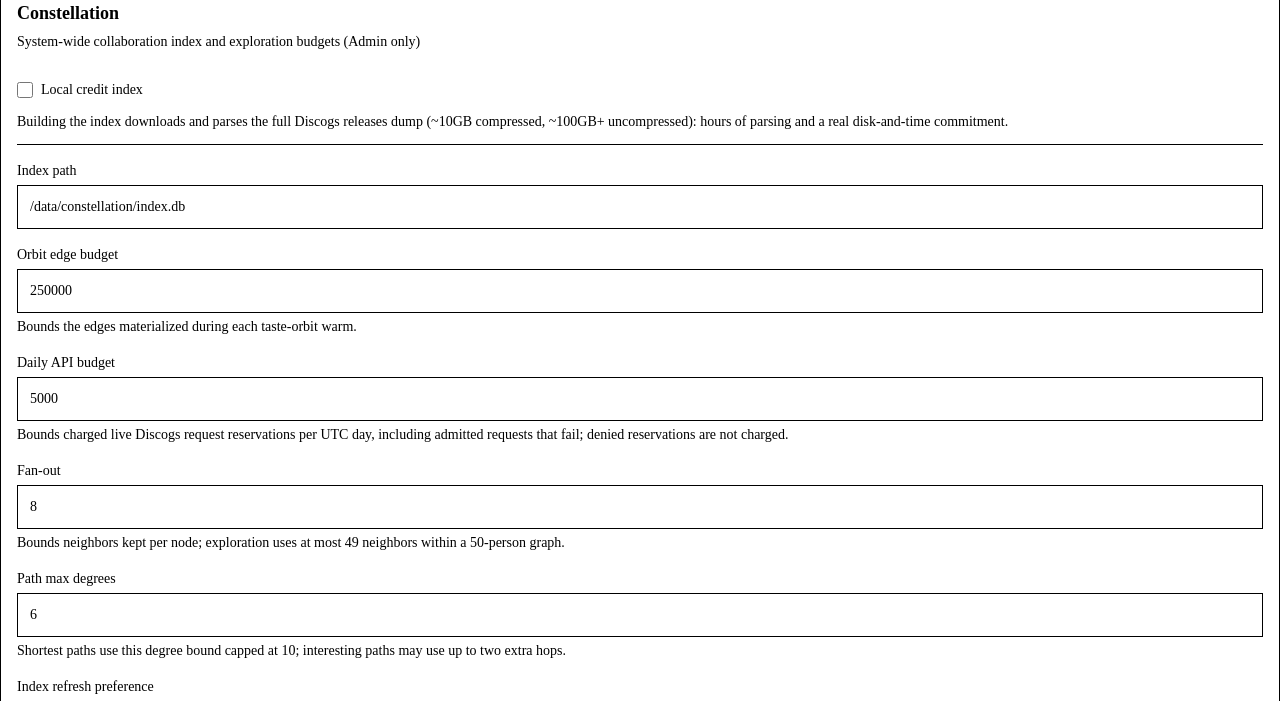
Constellation settings › preserves server validation errors and drafts with no automatic write retries
This screenshot has width=1280, height=701.
Replace the text in the number field labelled "Daily API budget" with "2" at (640, 399), box [17,377,1263,421]
(page scrolled)
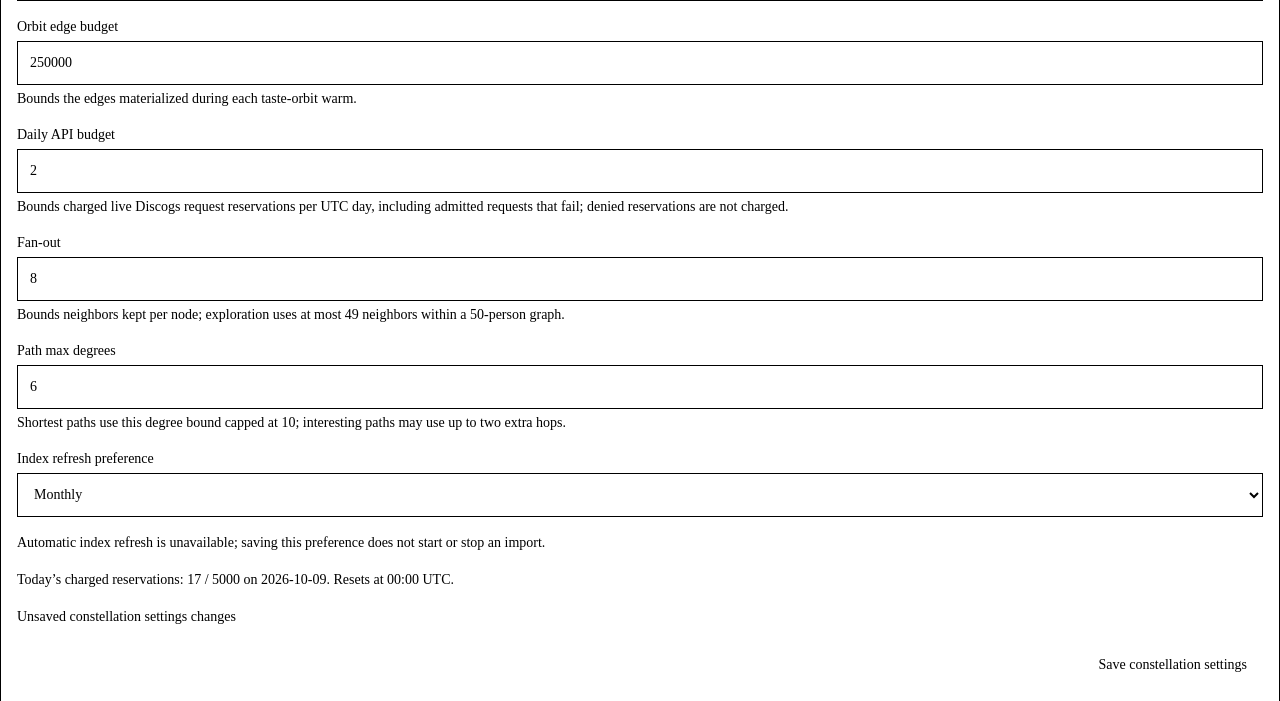
Click the button "Save constellation settings" at (1173, 665), box [1082,643,1263,687]
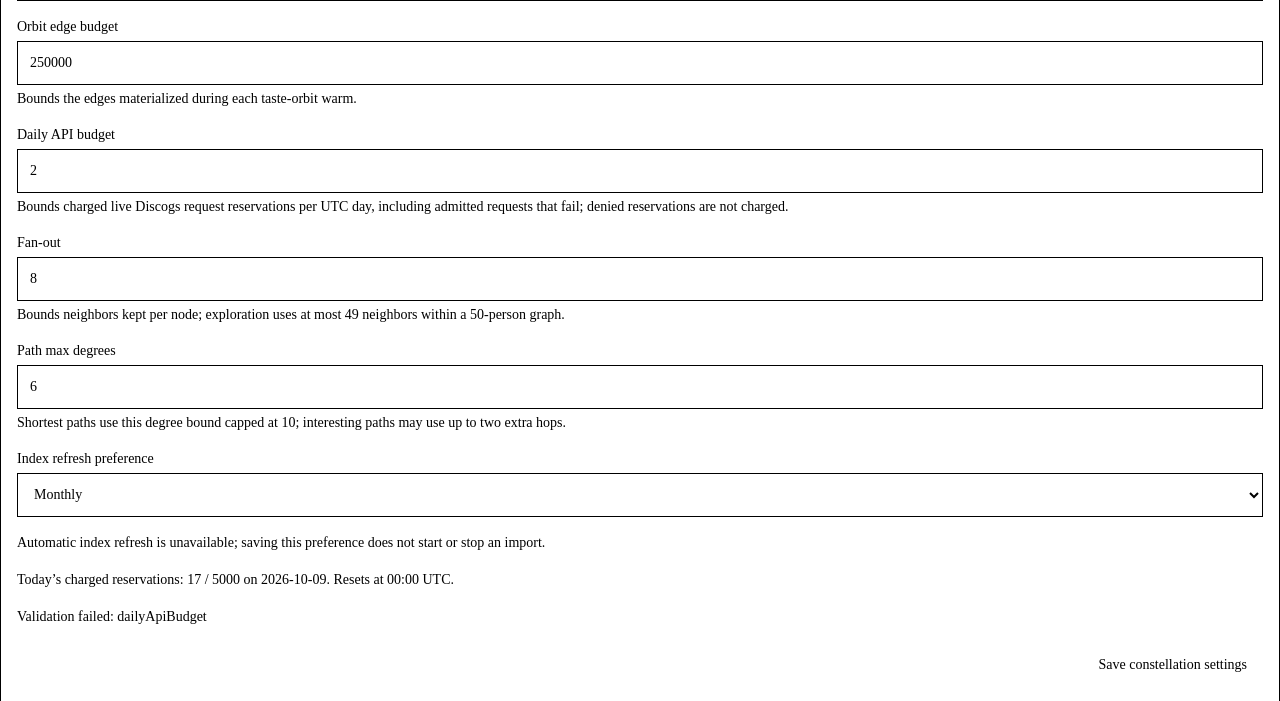
Check: the button "Save constellation settings" is enabled, box [1082,643,1263,687]
Check: the message reads "Validation failed: dailyApiBudget", box [17,609,207,624]
